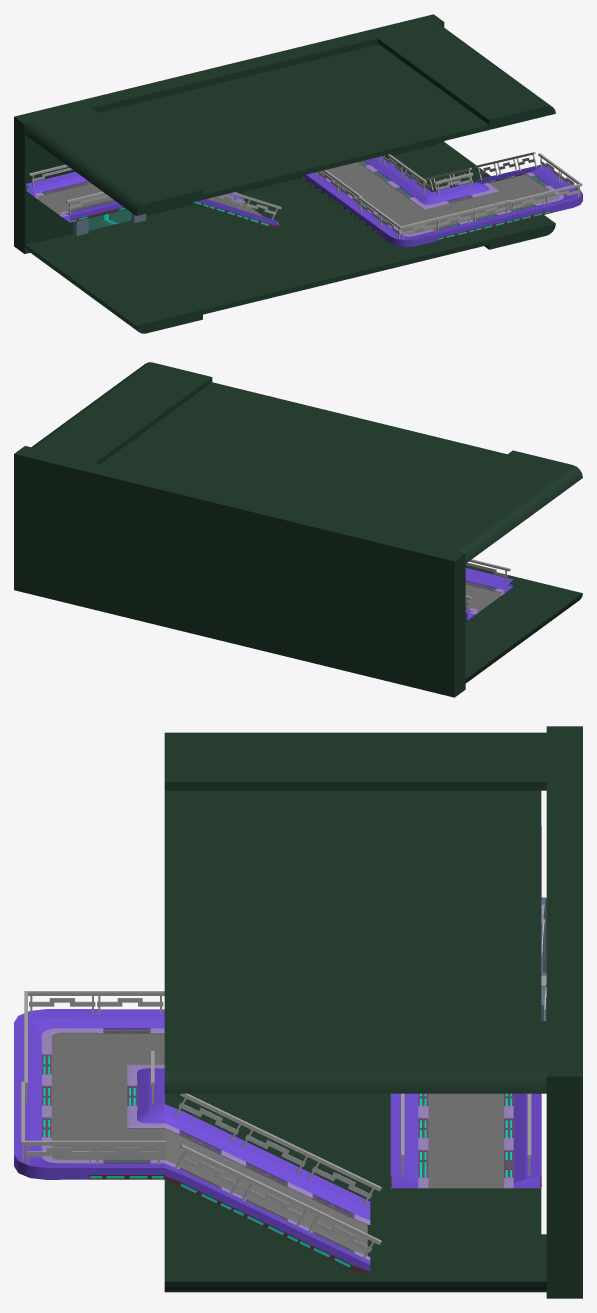
The model's file is Walkway_Tile.fbx.
3 views of the same model, one above another, from view 1: azimuth 30°, elevation 25°; view 2: azimuth 150°, elevation 25°; view 3: azimuth 270°, elevation 25° (orthographic). The views are drawn at different scales.
Parts seen in each view (by area): view 1: polySurface5_polySurface913; view 2: polySurface5_polySurface913; view 3: polySurface5_polySurface913.
Boxes of the visible parts, box(x1,y1,x2,y2) form: polySurface5_polySurface913: box(14, 14, 582, 333); polySurface5_polySurface913: box(14, 362, 582, 697); polySurface5_polySurface913: box(14, 726, 582, 1298).
Size of the model in its own units: 22 by 6.5 by 15.1.
